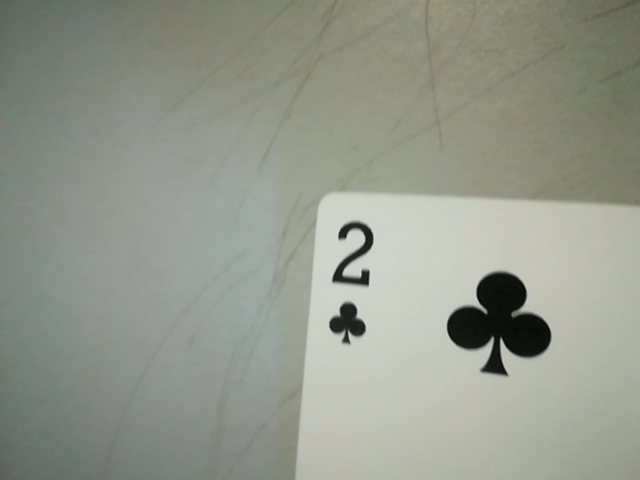mh 2: (315, 209, 390, 353)
